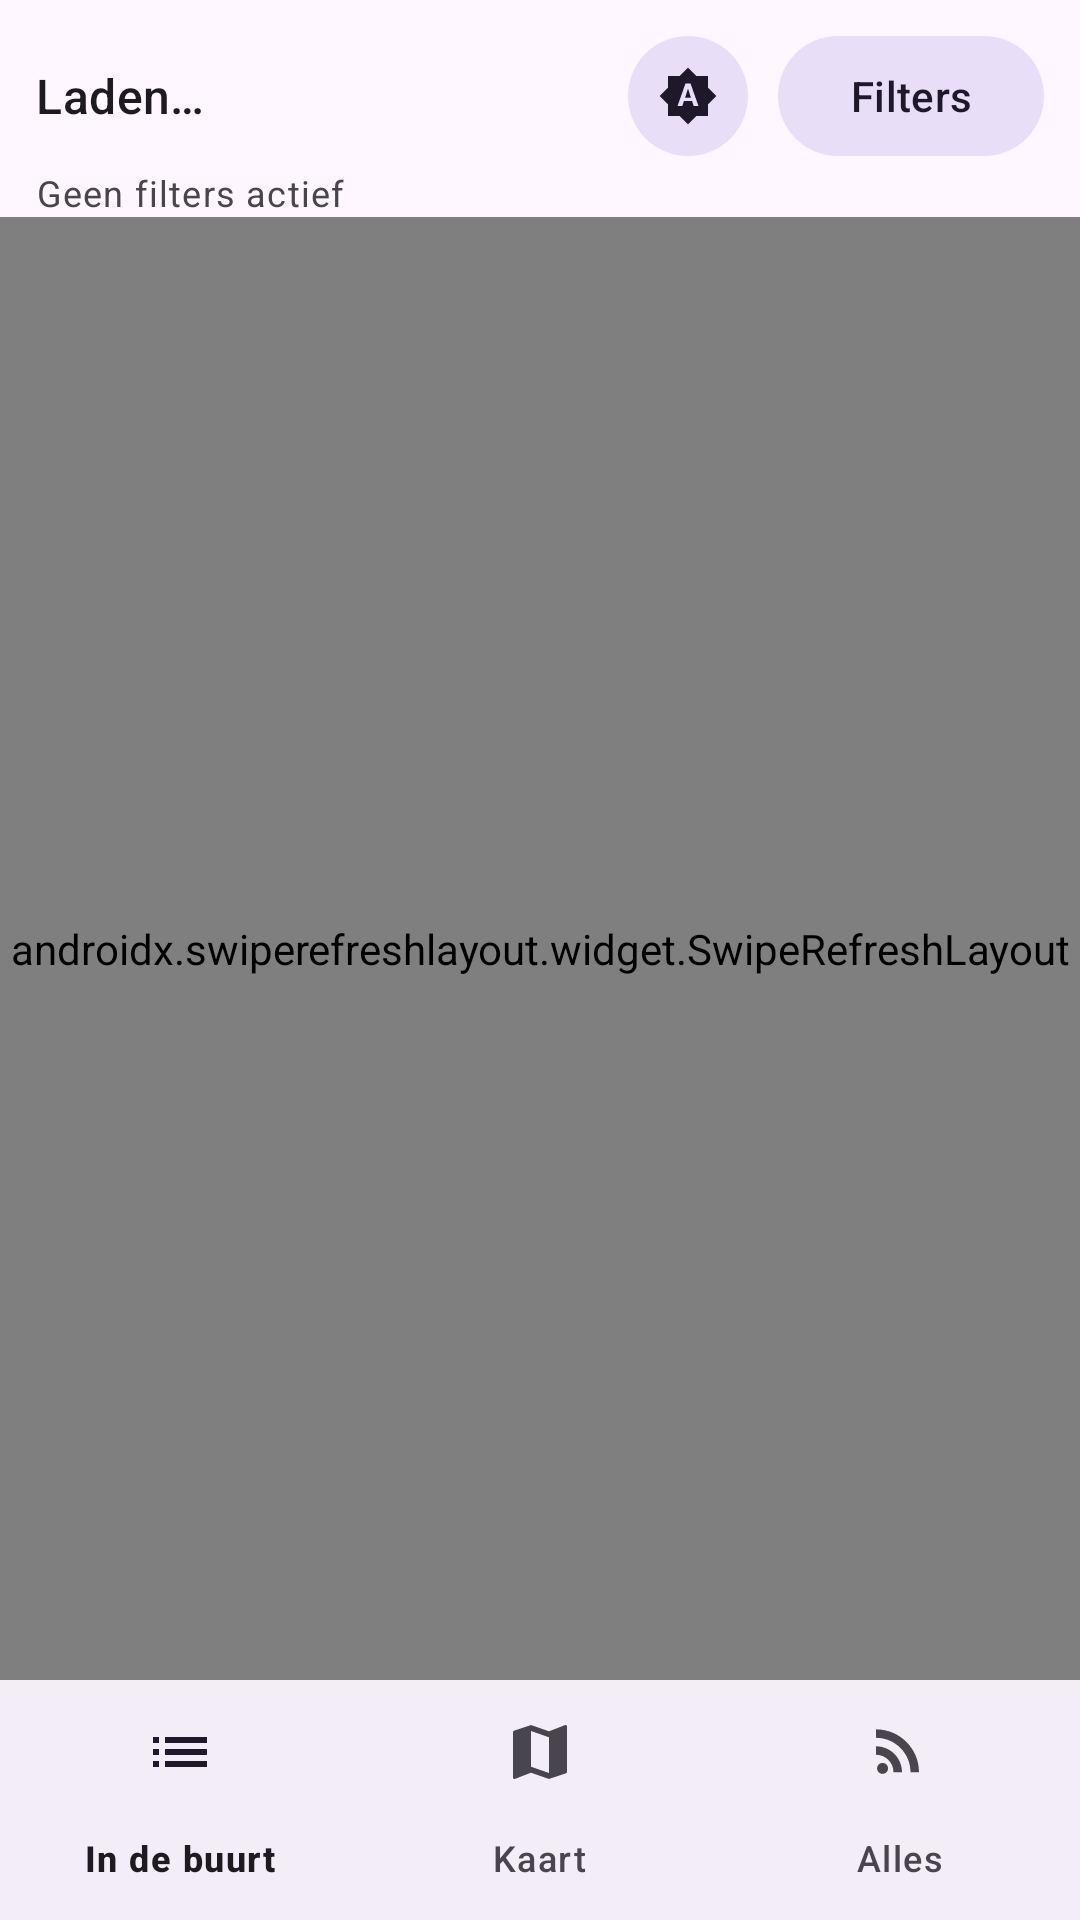

Locate icon controls on the screen. Image size 1080x1920, boxes as (x1, y1, x2, y2).
Thema wisselen (systeem / licht / donker): (628, 36, 748, 156)
